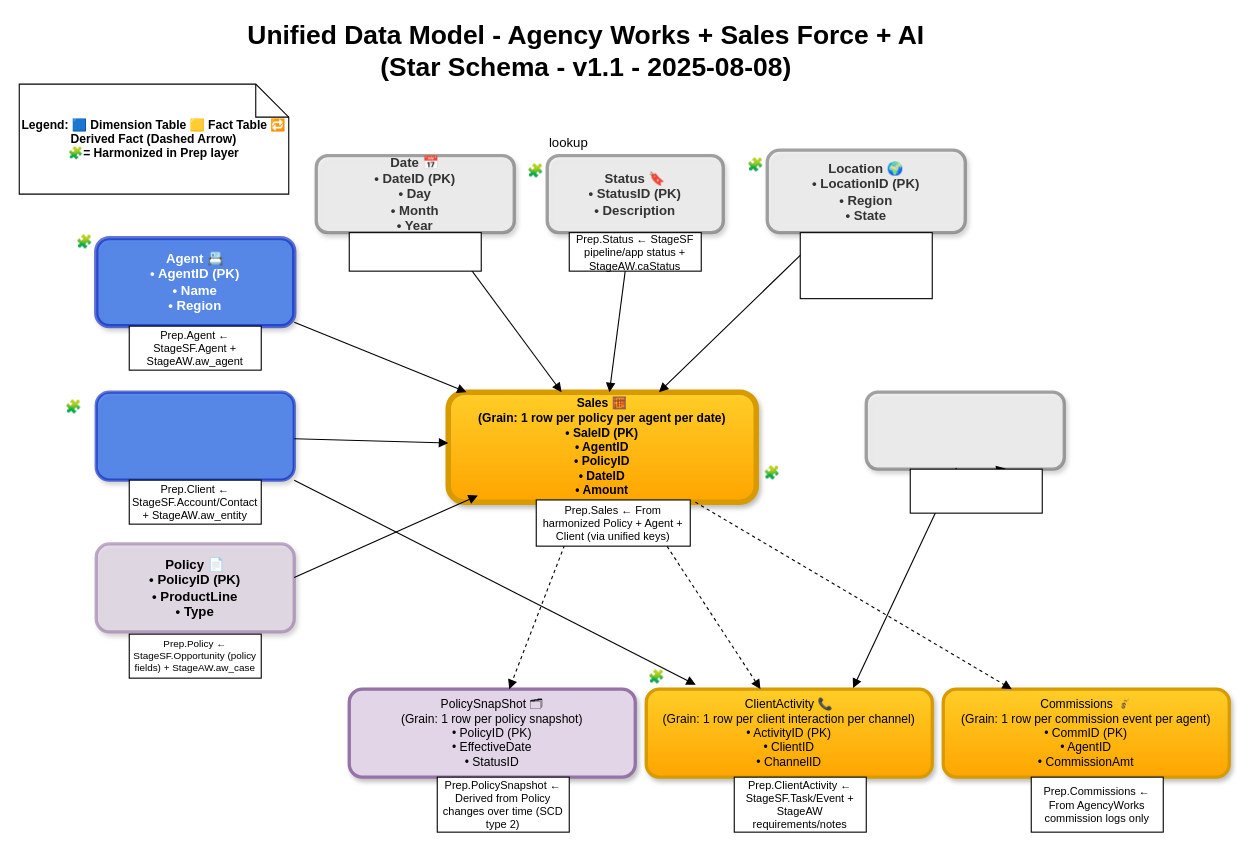
Some shapes in this 1256 by 851 pixel diagram are drawn without their labels. The shapes that lost their labels are listed below. From the top down, each one's centre as x and y in pixels, then its label:
At point (414, 251): "Generated Date dimension (no source)".
At point (865, 265): "Prep.Location ← StageSF.Account/Contact addresses + StageAW.aw_address".
At point (196, 437): "Client 👤 • ClientID (PK) • FullName • State".
At point (966, 432): "Channel 🛰 • ChannelID (PK) • ChannelName".
At point (975, 490): "Prep.Channel ← StageAW.aw_channel (single source)".
